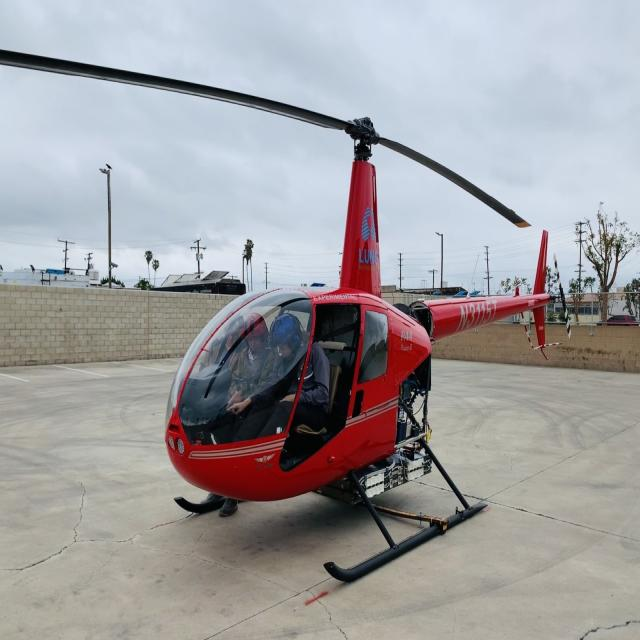CIV_HELO: (160, 112, 562, 590)
